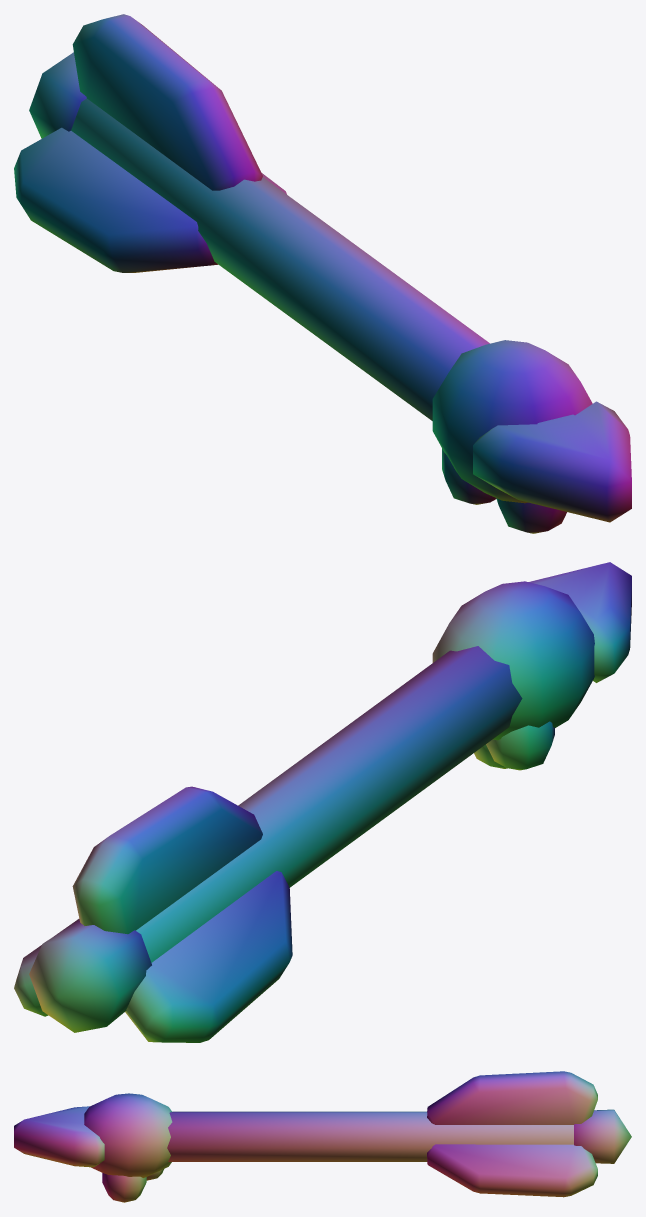
Rendered from SM_FX_PoisonArrow.fbx.
3 renders of one model, top to bottom at view 1: azimuth 30°, elevation 25°; view 2: azimuth 150°, elevation 25°; view 3: azimuth 270°, elevation 25°, orthographic. The views are drawn at different scales.
Parts seen in each view (by area): view 1: SM_FX_PoisonArrow; view 2: SM_FX_PoisonArrow; view 3: SM_FX_PoisonArrow.
Boxes of the visible parts, box(x1,y1,x2,y2) form: SM_FX_PoisonArrow: box(14, 14, 631, 533); SM_FX_PoisonArrow: box(14, 562, 631, 1042); SM_FX_PoisonArrow: box(14, 1071, 631, 1202).
Size of the model in its own units: 0.1107 by 0.1206 by 0.5415.
